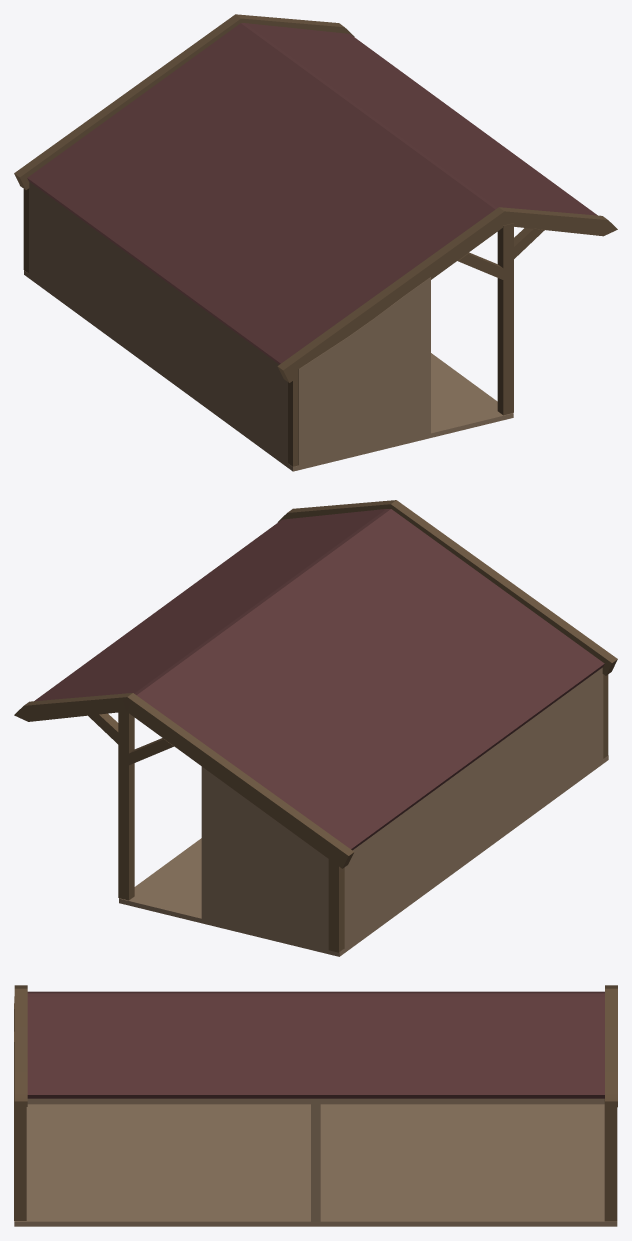
Rendered from Shed.fbx.
3 renders of one model, top to bottom at view 1: azimuth 30°, elevation 25°; view 2: azimuth 150°, elevation 25°; view 3: azimuth 270°, elevation 25°, orthographic. The views are drawn at different scales.
Visible parts, largest first — view 1: polySurface2; view 2: polySurface2; view 3: polySurface2.
Part boxes in pixels (x1,y1,x2,y2): polySurface2: (14,14,617,471); polySurface2: (14,500,617,956); polySurface2: (14,985,617,1226).
Size of the model in its own units: 19.38 by 11.53 by 27.04.
